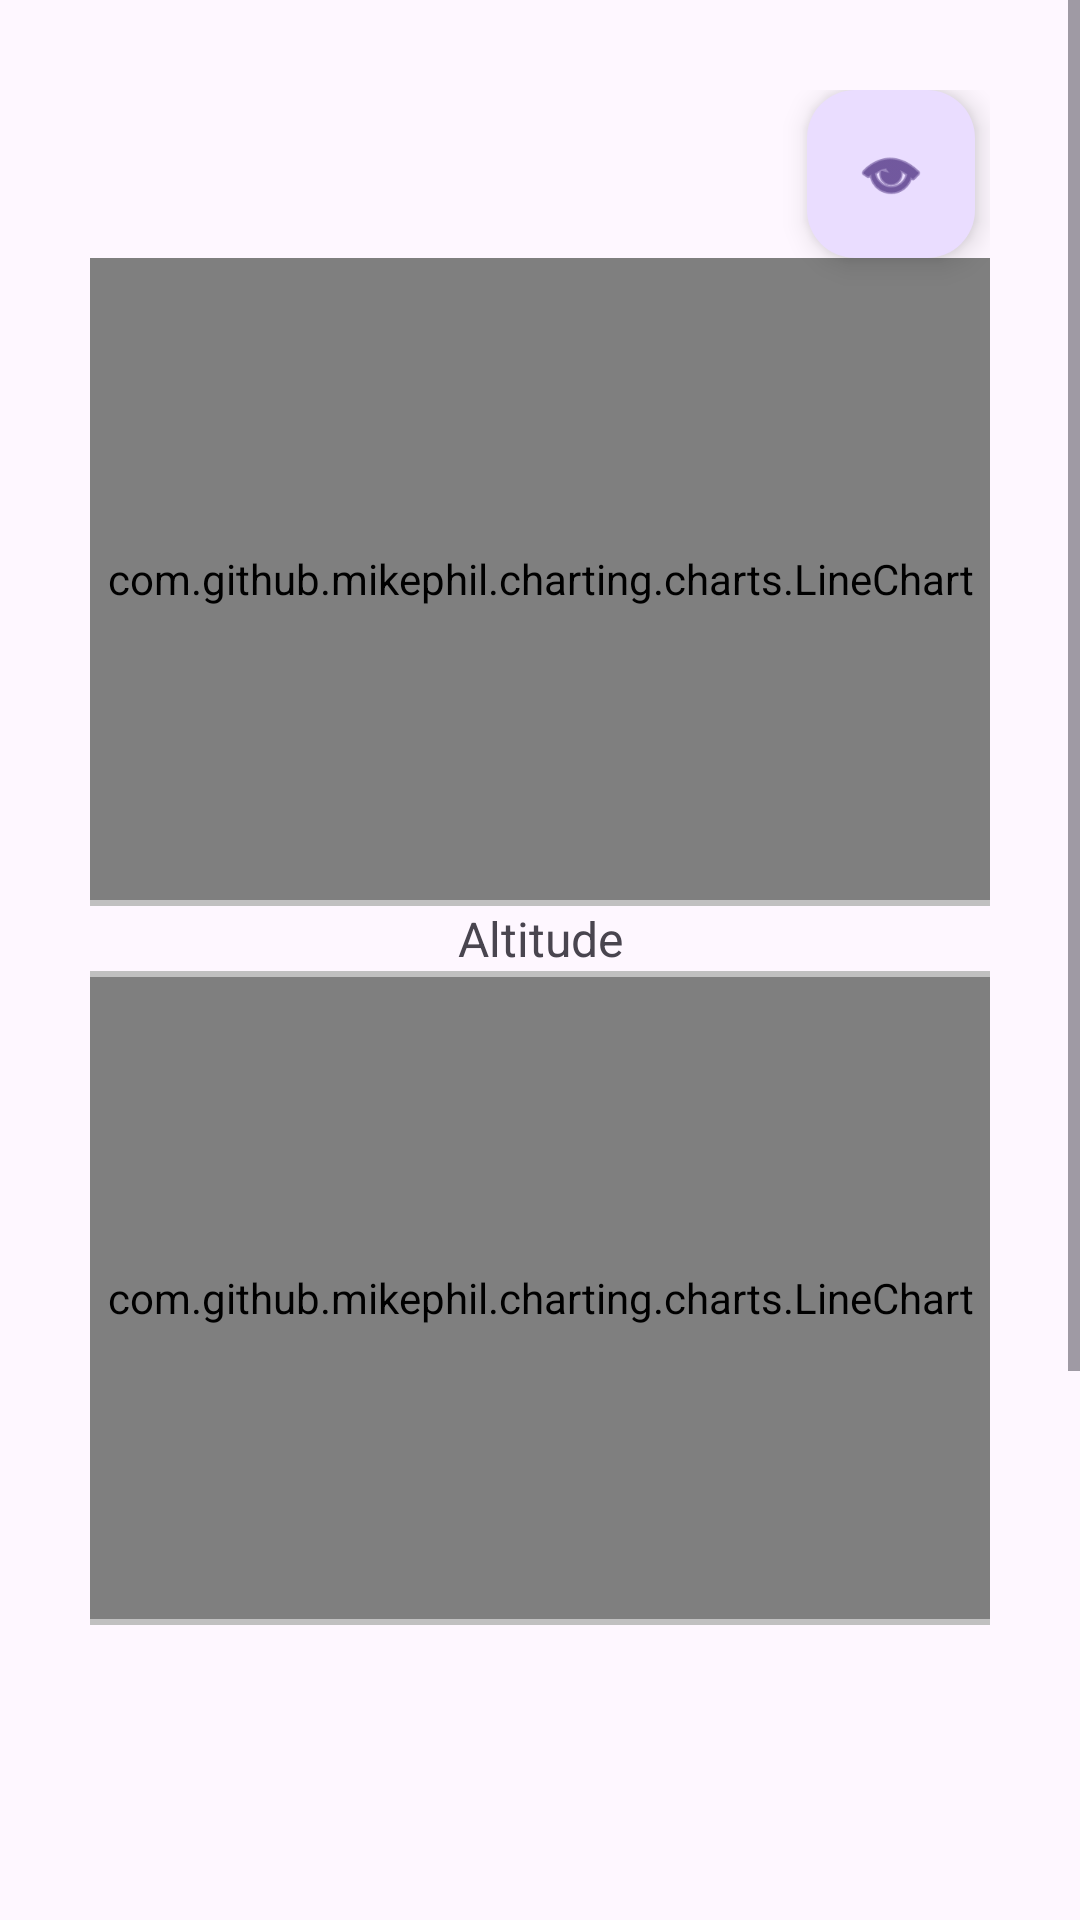

Point at icon controls on the screen. Image size 1080px x 1920px, points as (x=x, y=y).
view: (x=891, y=174)
